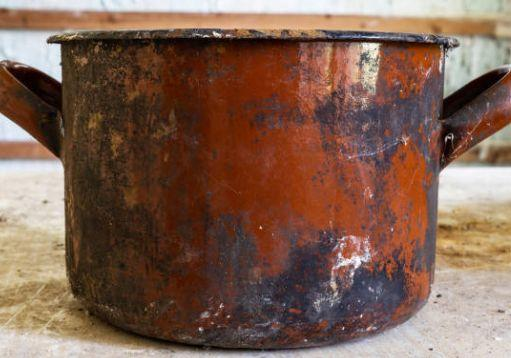metal: (0, 27, 510, 352)
